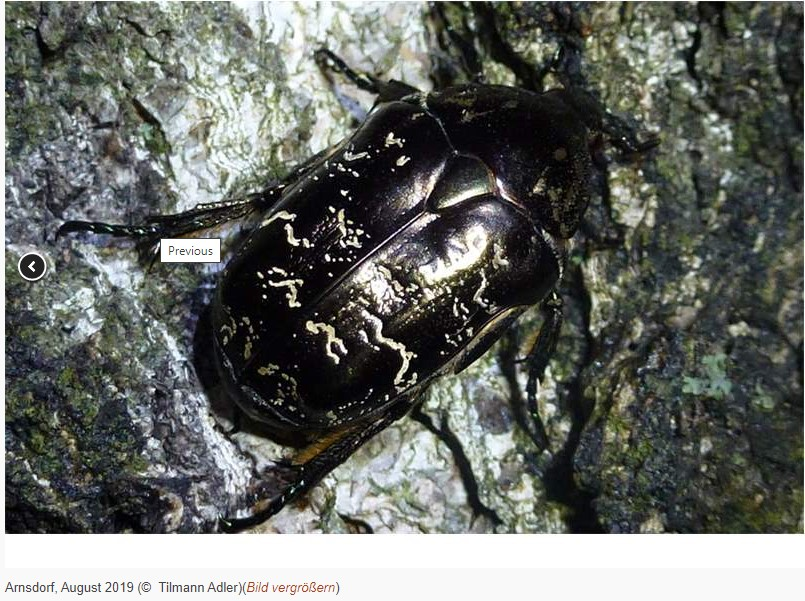Protaetia_lugubris: (64, 34, 590, 525)
